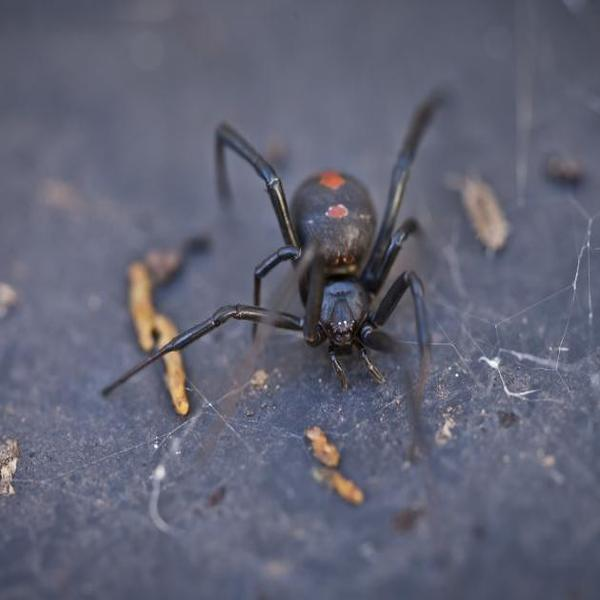Redback Spider: (143, 91, 454, 429)
